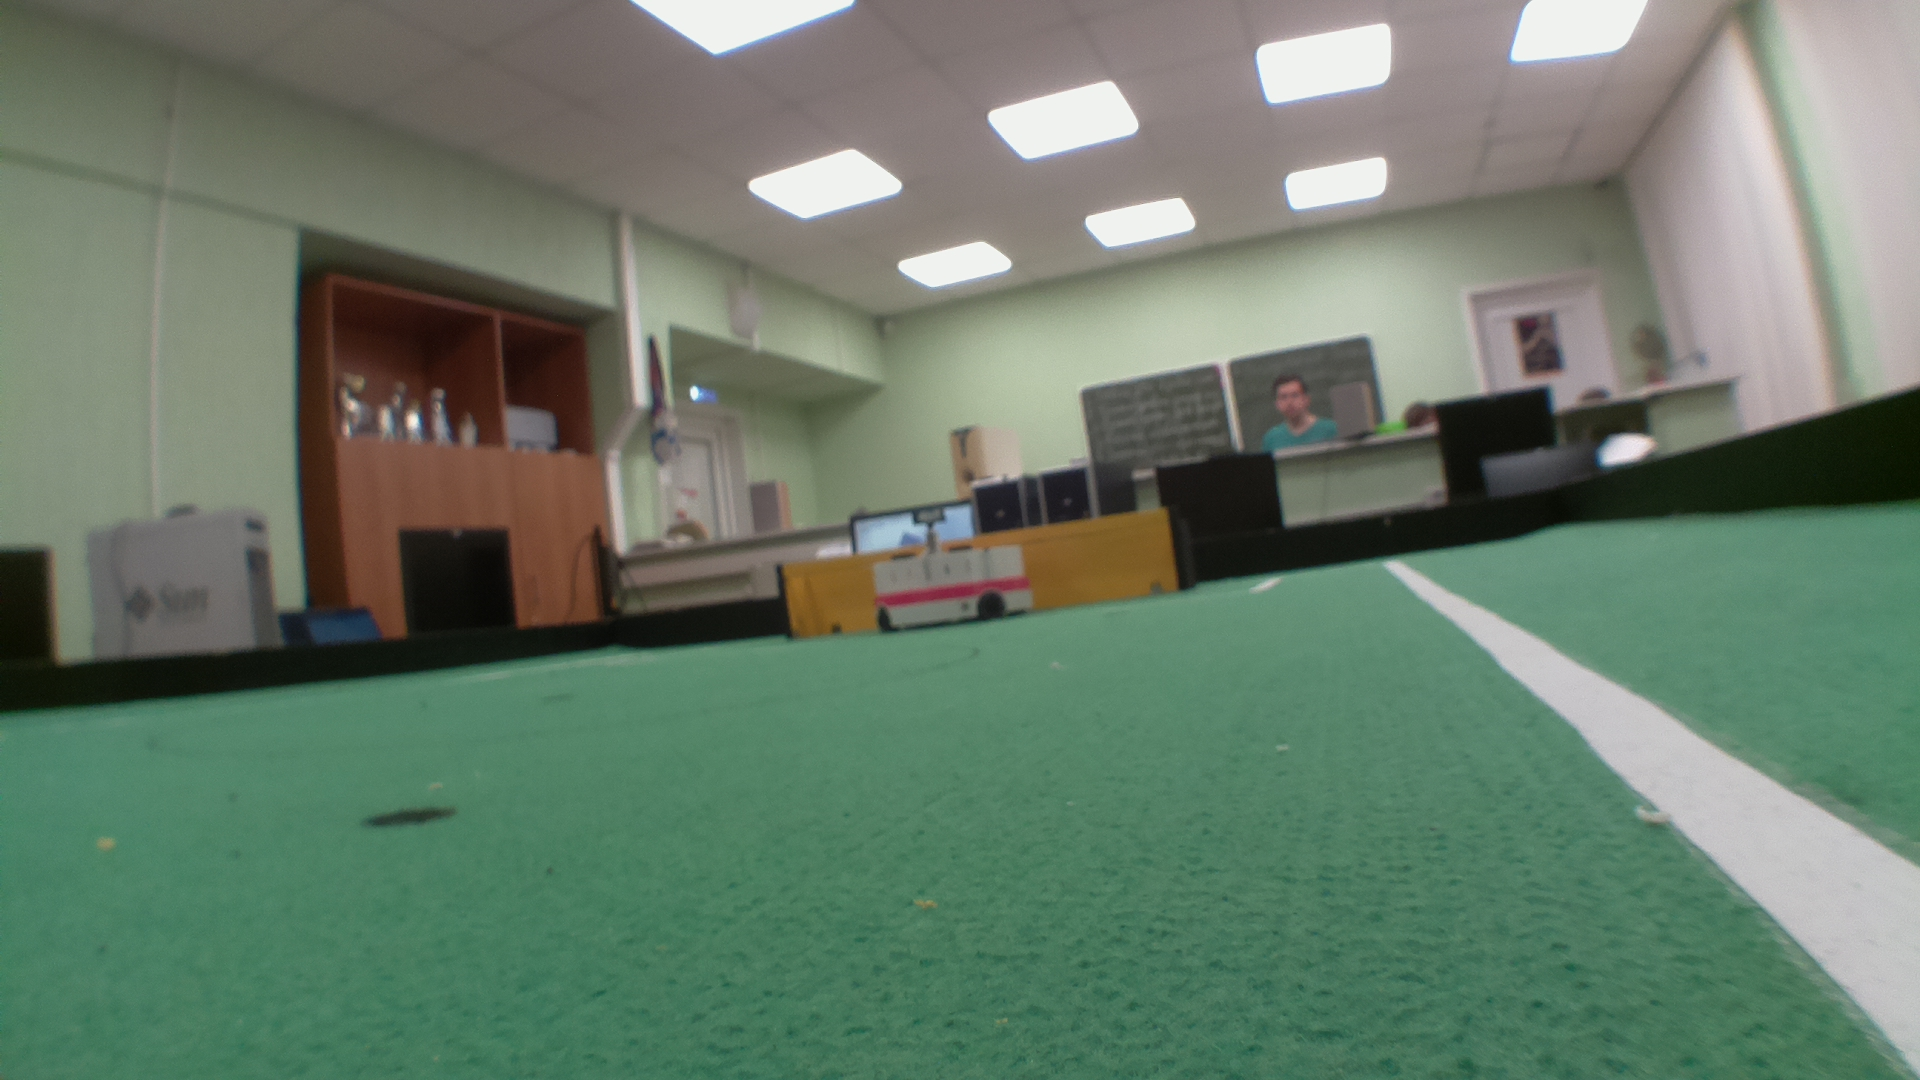YellowGoal: (781, 512, 1178, 630)
